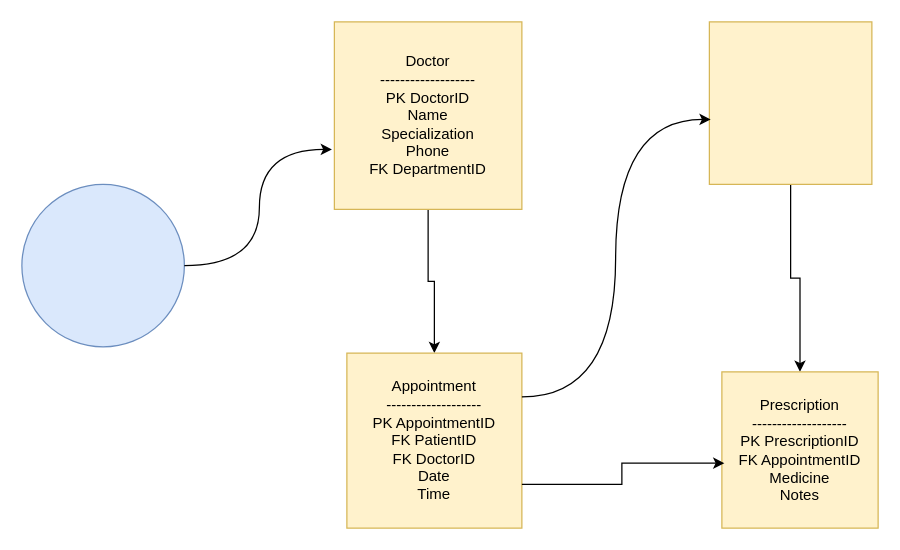
Some shapes in this 900 by 550 pixel diagram are drawn without their labels. Here are the shapes that lost their labels. From the top down, the centre of each, then its label:
At (790,102): "Patient ------------------- PK PatientID Name Age Gender Phone".
At (102,265): "Department ------------------- PK DepartmentID Name Location".
